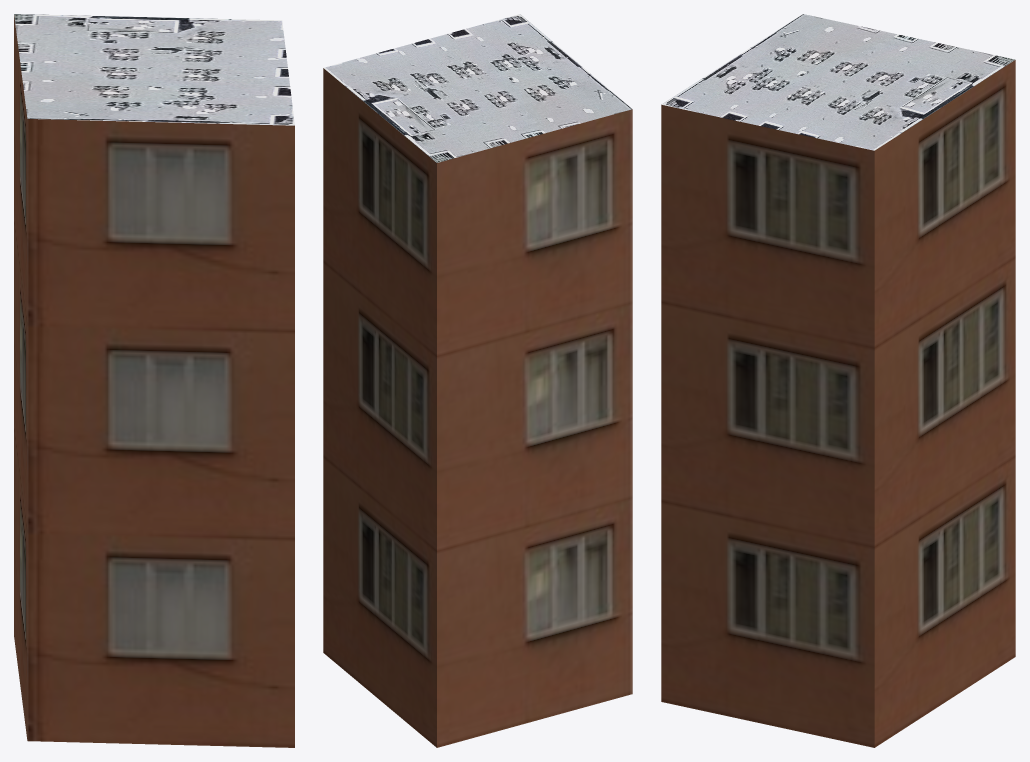
Rendered from ResTex__489.fbx.
3 renders of one model, left to right at view 1: azimuth 30°, elevation 25°; view 2: azimuth 150°, elevation 25°; view 3: azimuth 270°, elevation 25°, orthographic. The views are drawn at different scales.
Parts seen in each view (by area): view 1: CityEngineMaterial_20_m, CityEngineMaterial_2_m; view 2: CityEngineMaterial_20_m, CityEngineMaterial_2_m; view 3: CityEngineMaterial_20_m, CityEngineMaterial_2_m.
Part boxes in pixels (x1,y1,x2,y2): CityEngineMaterial_20_m: (14,15,294,747); CityEngineMaterial_2_m: (14,14,294,125); CityEngineMaterial_20_m: (323,68,632,747); CityEngineMaterial_2_m: (323,14,632,162); CityEngineMaterial_20_m: (661,60,1015,747); CityEngineMaterial_2_m: (662,14,1014,150).
Size of the model in its own units: 4.42 by 9 by 4.84.
2 materials, 2 textured.
